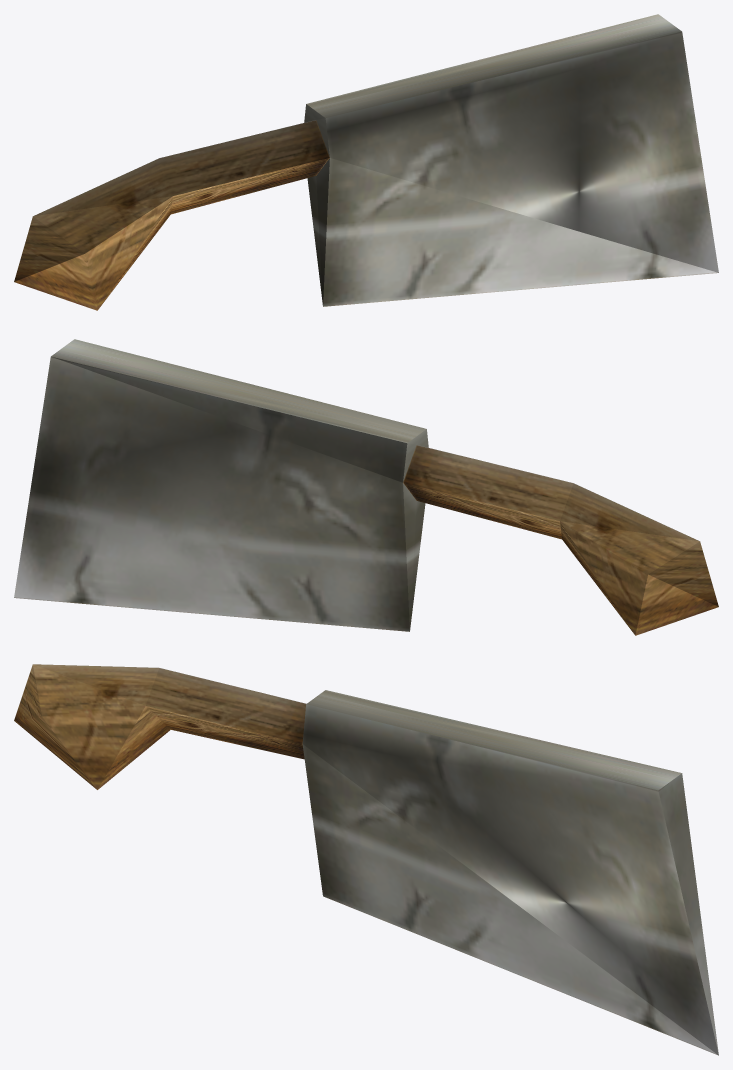
File: cleaver01.obj
3 renders of one model, top to bottom at view 1: azimuth 30°, elevation 25°; view 2: azimuth 150°, elevation 25°; view 3: azimuth 330°, elevation 25°, orthographic.
Parts seen in each view (by area): view 1: cleaver01.m2; view 2: cleaver01.m2; view 3: cleaver01.m2.
Part boxes in pixels (<box>): cleaver01.m2: <box>14,14,718,310</box>; cleaver01.m2: <box>14,339,718,635</box>; cleaver01.m2: <box>14,664,718,1055</box>.
Bounding box in the file's own units: 0.963 × 0.342 × 0.1012.
Materials: 1 (1 with a texture image).
